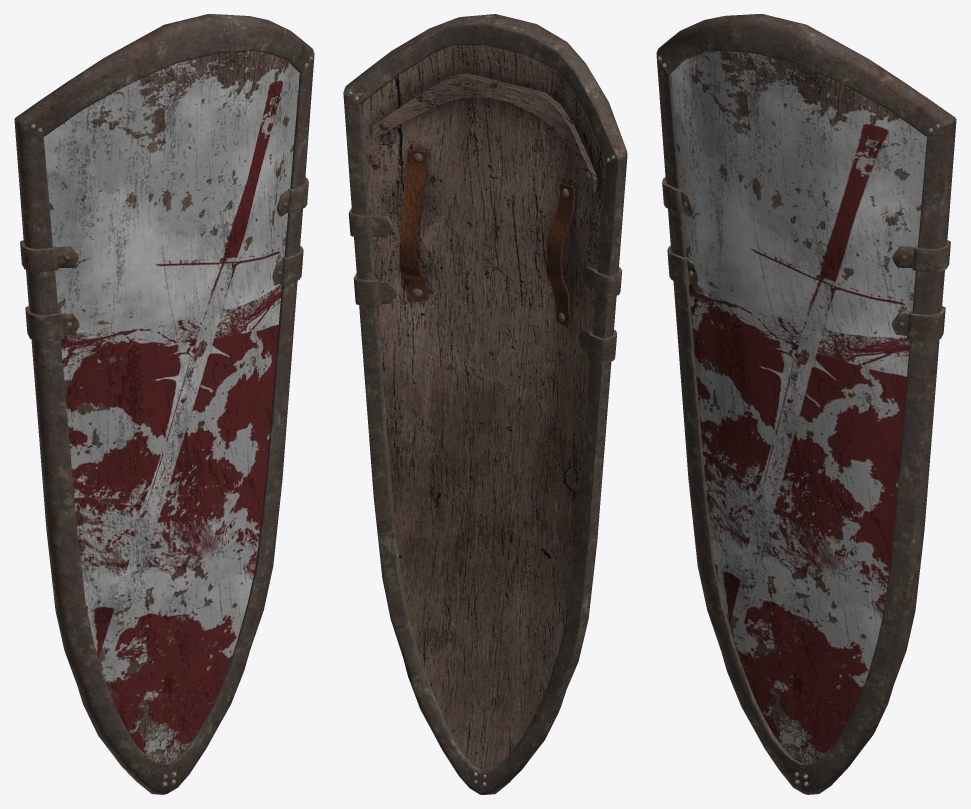
The model's file is kite_shield_4k.gltf.
3 renders of one model, left to right at view 1: azimuth 30°, elevation 25°; view 2: azimuth 150°, elevation 25°; view 3: azimuth 330°, elevation 25°, orthographic. The views are drawn at different scales.
Parts seen in each view (by area): view 1: kite_shield_body, kite_shield_metal_trim, kite_shield_clamps_and_bolts; view 2: kite_shield_body, kite_shield_metal_trim, kite_shield_clamps_and_bolts; view 3: kite_shield_body, kite_shield_metal_trim, kite_shield_clamps_and_bolts.
Boxes of the visible parts, <box> form: kite_shield_body: <box>43,51,299,763</box>; kite_shield_metal_trim: <box>14,14,314,794</box>; kite_shield_clamps_and_bolts: <box>20,56,312,786</box>; kite_shield_body: <box>361,45,606,770</box>; kite_shield_metal_trim: <box>343,14,627,794</box>; kite_shield_clamps_and_bolts: <box>348,91,622,786</box>; kite_shield_body: <box>671,51,927,763</box>; kite_shield_metal_trim: <box>656,14,956,794</box>; kite_shield_clamps_and_bolts: <box>658,56,950,786</box>.
Bounding box in the file's own units: 0.5432 × 1.39 × 0.1347.
2 materials, 2 textured.
